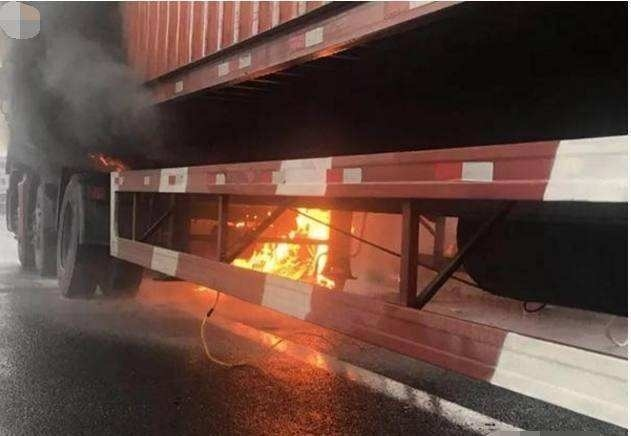fire: (230, 205, 334, 285)
